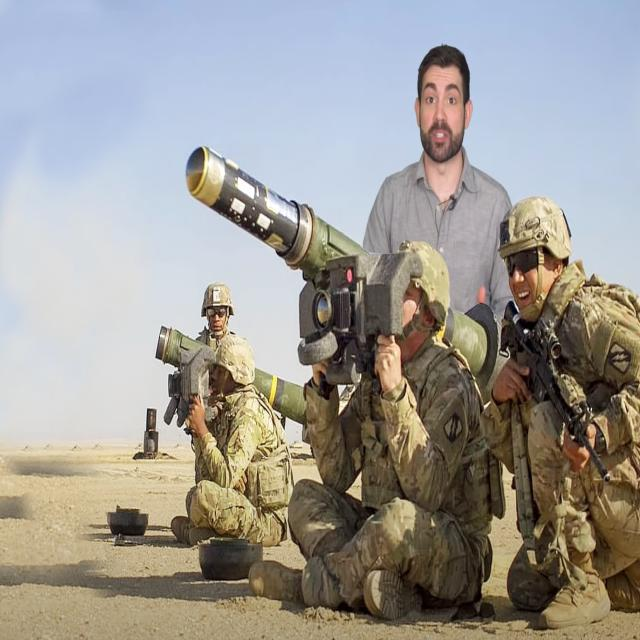bazooka: (172, 102, 512, 424), (141, 294, 354, 468)
